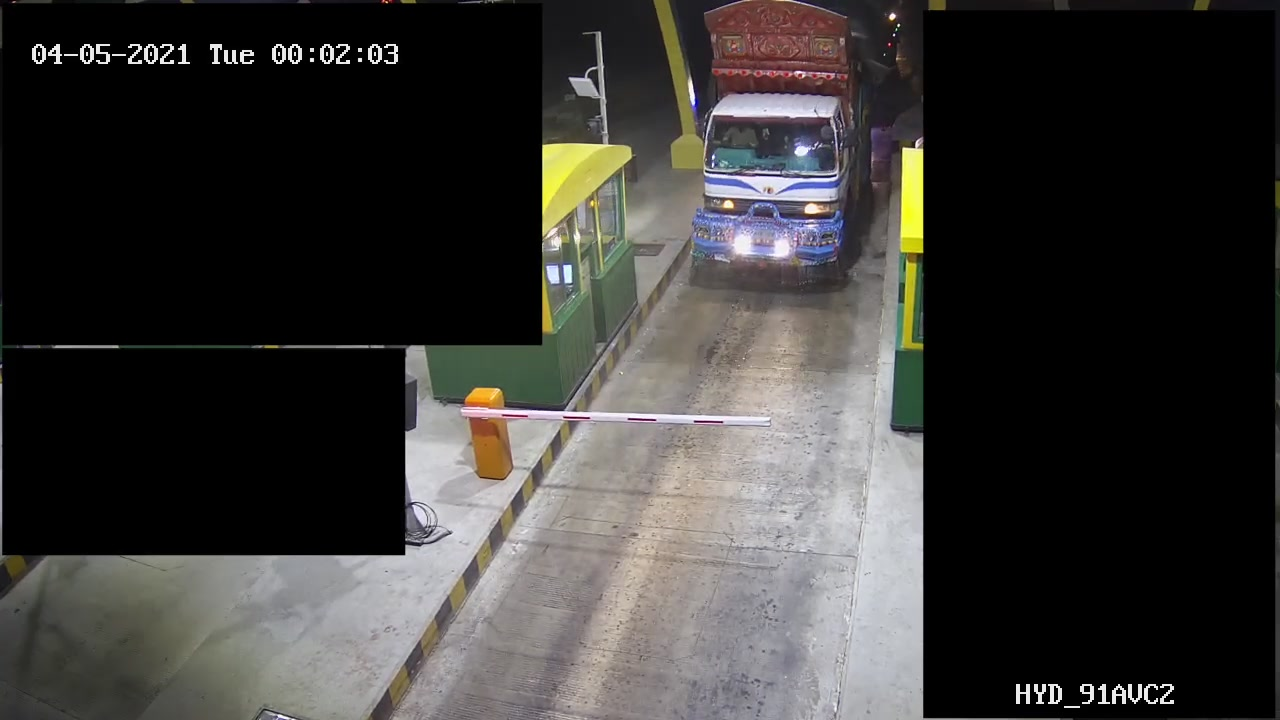F5: (678, 1, 885, 290)
